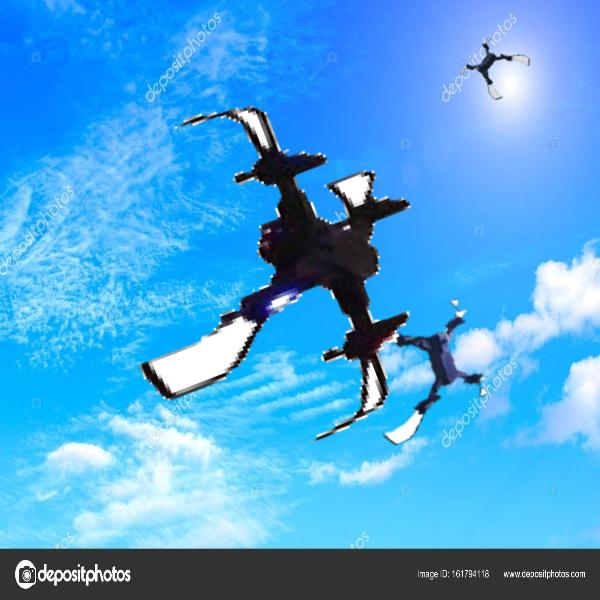drone: (84, 91, 444, 451), (358, 302, 496, 440), (465, 37, 526, 98)
